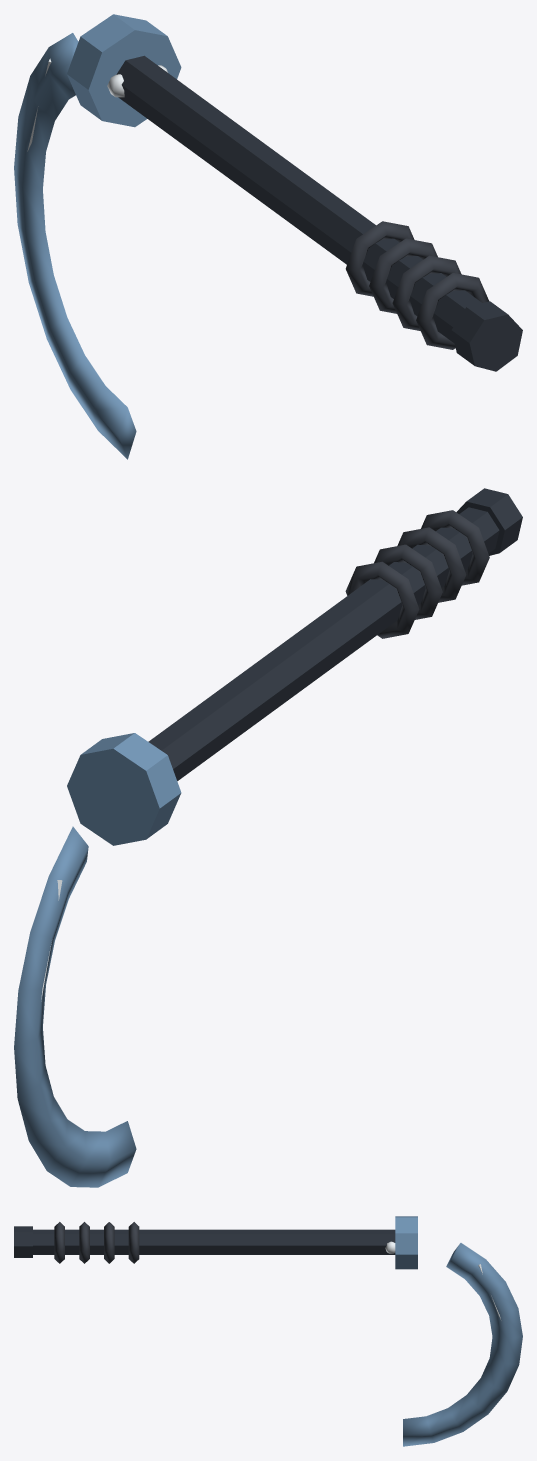
Rendered from Tool_Sickle_Titanium.fbx.
The picture shows the model from 3 angles, top to bottom: view 1: azimuth 30°, elevation 25°; view 2: azimuth 150°, elevation 25°; view 3: azimuth 270°, elevation 25°; orthographic projection. The views are drawn at different scales.
Parts seen in each view (by area): view 1: Tool_Sickle_Titanium; view 2: Tool_Sickle_Titanium; view 3: Tool_Sickle_Titanium.
Boxes of the visible parts, left/top/right/bottom form: Tool_Sickle_Titanium: left=14, top=14, right=522, bottom=459; Tool_Sickle_Titanium: left=14, top=488, right=522, bottom=1187; Tool_Sickle_Titanium: left=14, top=1216, right=522, bottom=1446.
Bounding box in the file's own units: 2.97 × 13.29 × 26.7.
